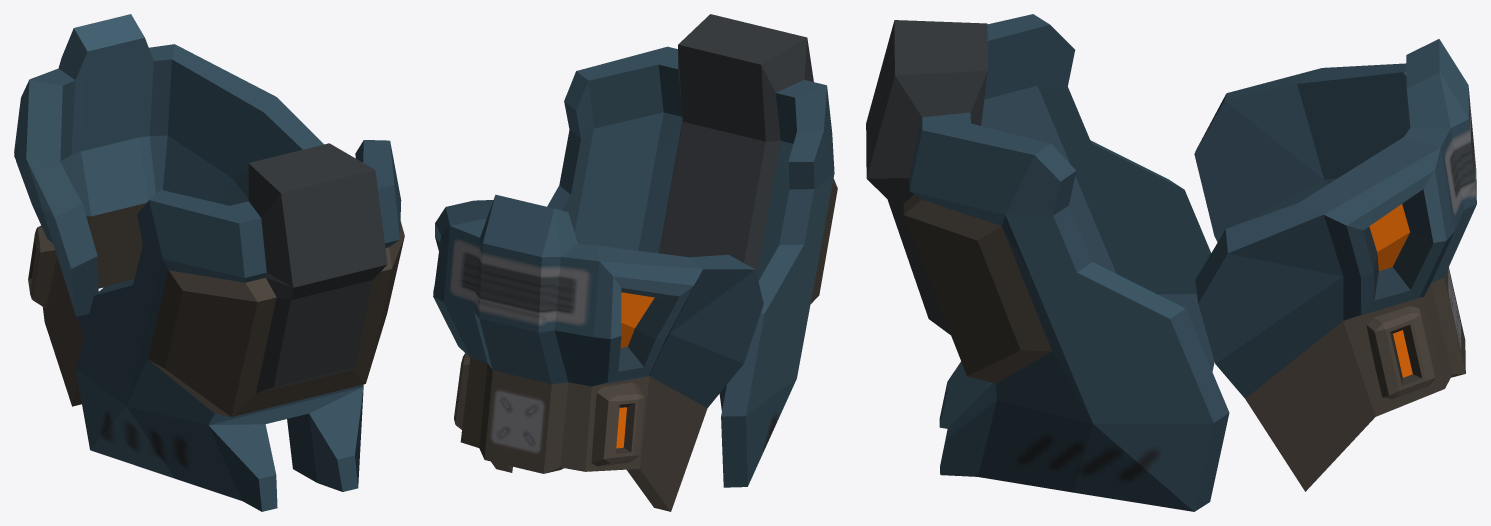
The model's file is SM_Mech_Leg_01_Armor_Uppershin_01.fbx.
3 views of the same model, side by side, from view 1: azimuth 30°, elevation 25°; view 2: azimuth 150°, elevation 25°; view 3: azimuth 270°, elevation 25° (orthographic). The views are drawn at different scales.
Parts seen in each view (by area): view 1: SM_Mech_Leg_01_Armor_Uppershin_01; view 2: SM_Mech_Leg_01_Armor_Uppershin_01; view 3: SM_Mech_Leg_01_Armor_Uppershin_01.
Part boxes in pixels (x1,y1,x2,y2): SM_Mech_Leg_01_Armor_Uppershin_01: [14, 14, 404, 511]; SM_Mech_Leg_01_Armor_Uppershin_01: [433, 14, 837, 511]; SM_Mech_Leg_01_Armor_Uppershin_01: [866, 14, 1476, 511].
Size of the model in its own units: 44.52 by 51.45 by 71.37.
